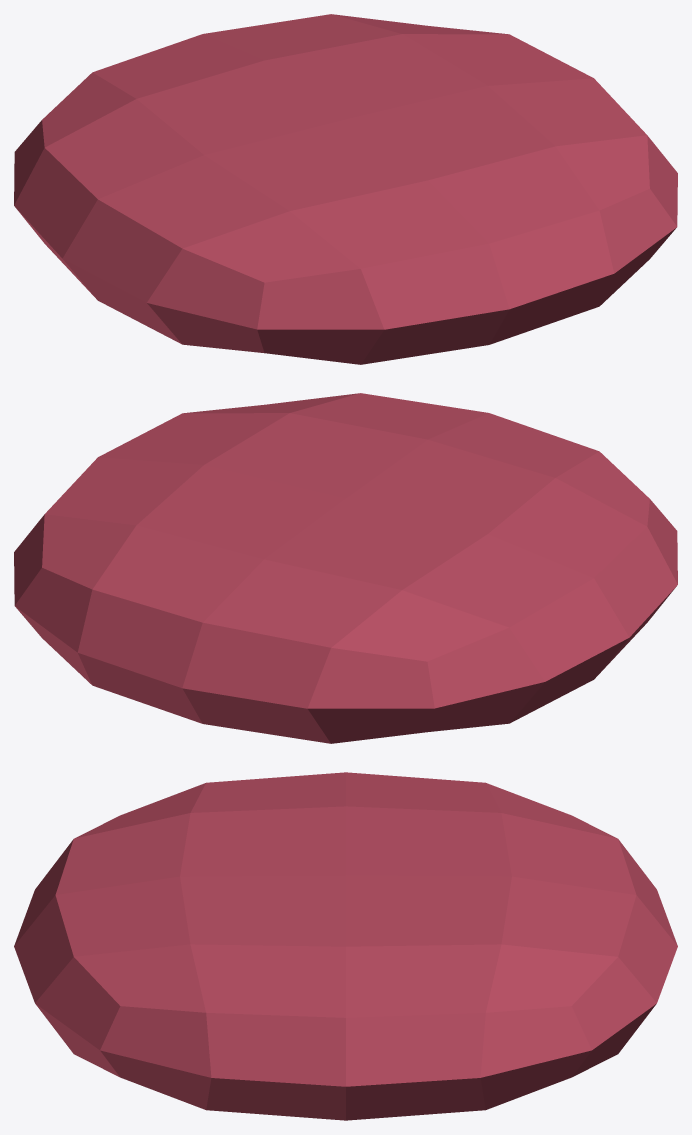
Rendered from burgerpatty-raw.glb.
3 renders of one model, top to bottom at view 1: azimuth 30°, elevation 25°; view 2: azimuth 150°, elevation 25°; view 3: azimuth 270°, elevation 25°, orthographic.
Parts seen in each view (by area): view 1: BurgerPatty_Raw; view 2: BurgerPatty_Raw; view 3: BurgerPatty_Raw.
Part boxes in pixels (<box>): BurgerPatty_Raw: <box>14,14,677,364</box>; BurgerPatty_Raw: <box>14,393,677,743</box>; BurgerPatty_Raw: <box>14,772,677,1120</box>.
Bounding box in the file's own units: 1.43 × 0.3364 × 1.43.
